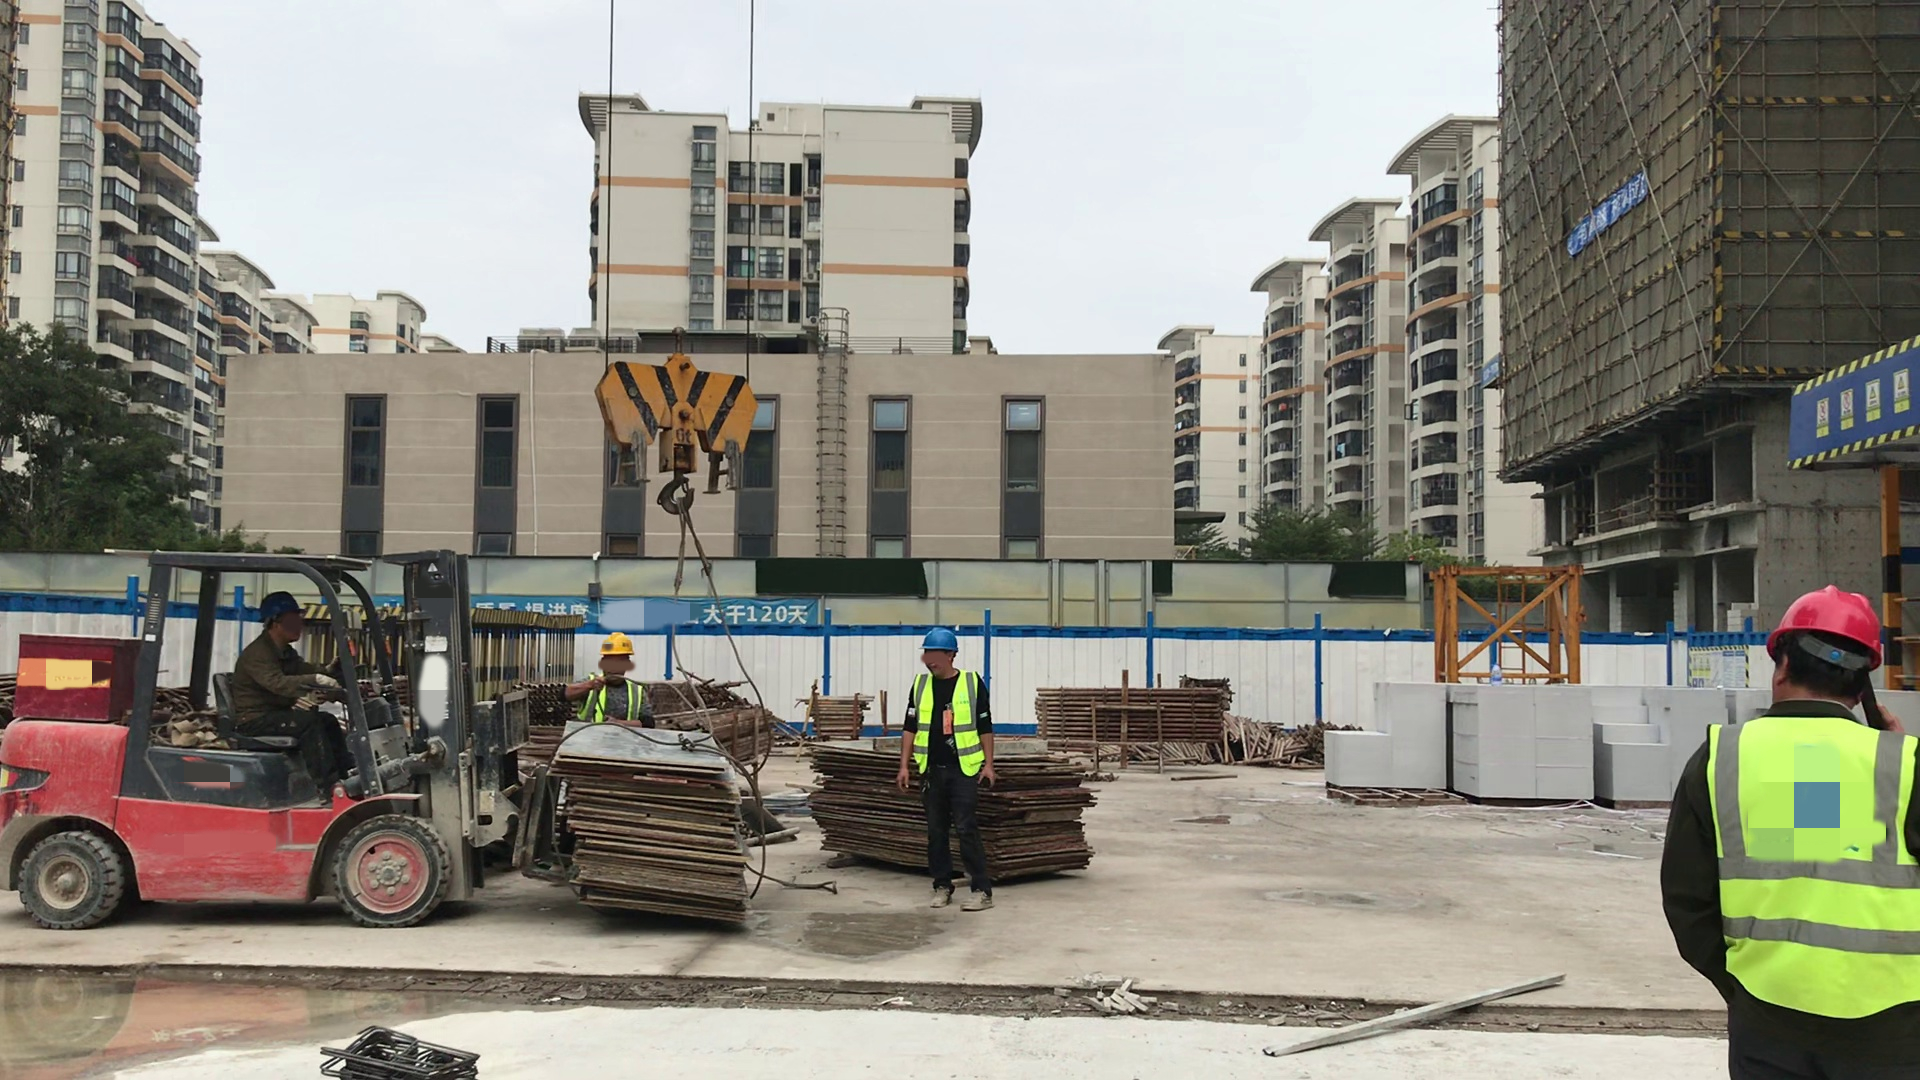board: (548, 717, 760, 934), (1002, 740, 1101, 892), (804, 732, 895, 882)
brick: (1450, 681, 1595, 803), (1319, 680, 1449, 791), (1593, 680, 1675, 805)
helmet: (1768, 595, 1884, 660), (256, 590, 303, 622), (917, 628, 962, 652), (599, 633, 638, 659)
hook: (588, 357, 752, 517)
person: (1659, 589, 1915, 1080), (898, 628, 999, 913), (230, 591, 355, 804), (577, 631, 656, 725)
scaffold: (1030, 685, 1224, 746), (809, 689, 876, 737)
slogan: (585, 596, 822, 631), (1564, 176, 1653, 256), (1689, 647, 1750, 686), (1807, 390, 1831, 443), (1891, 369, 1913, 417), (1864, 377, 1886, 425), (1838, 388, 1858, 432), (1478, 358, 1503, 385)
vest: (1702, 716, 1920, 1020), (908, 672, 986, 778), (580, 674, 641, 724)
